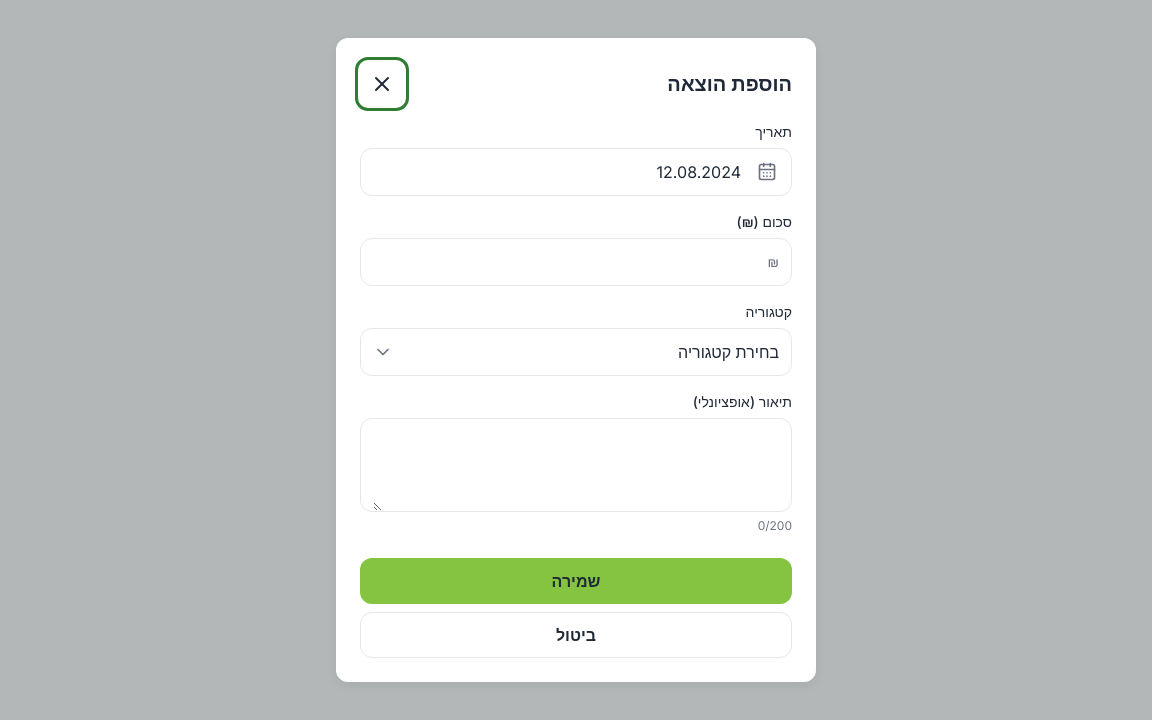
Test: ExpenseFormDialog › defaults the date to today and validates required fields
Expected: the heading "הוספת הוצאה" is shown, [667, 70, 792, 98]
Expected: the field labelled "תאריך" holds "12.08.2024", [373, 150, 741, 194]
Click the button "שמירה" at (576,581), box [360, 558, 792, 604]
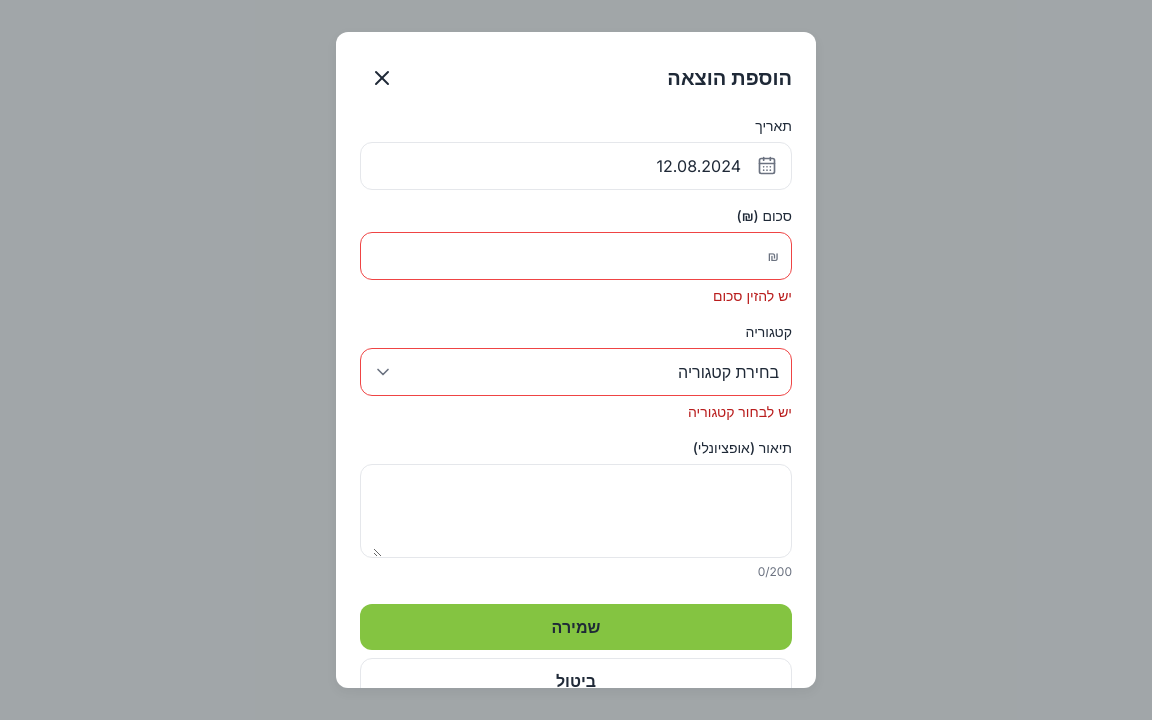
Expected: the text "יש להזין סכום" is shown, [713, 287, 792, 304]
Expected: the text "יש לבחור קטגוריה" is shown, [688, 403, 792, 420]
